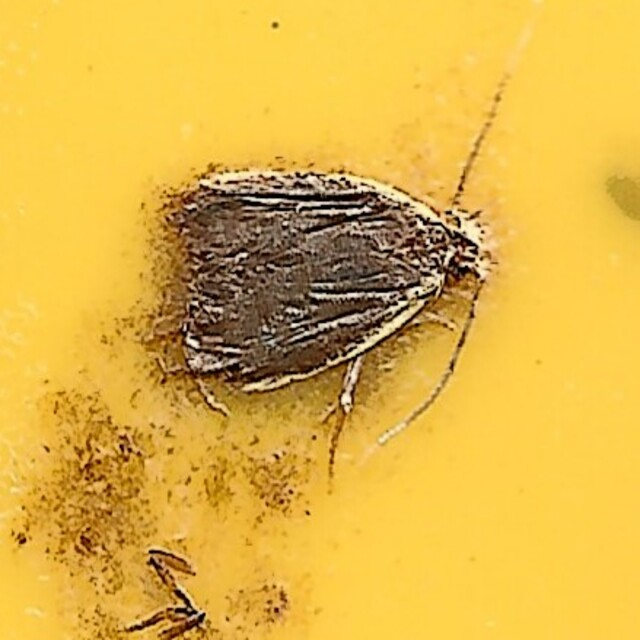Lepidoptera: (146, 160, 494, 480)
